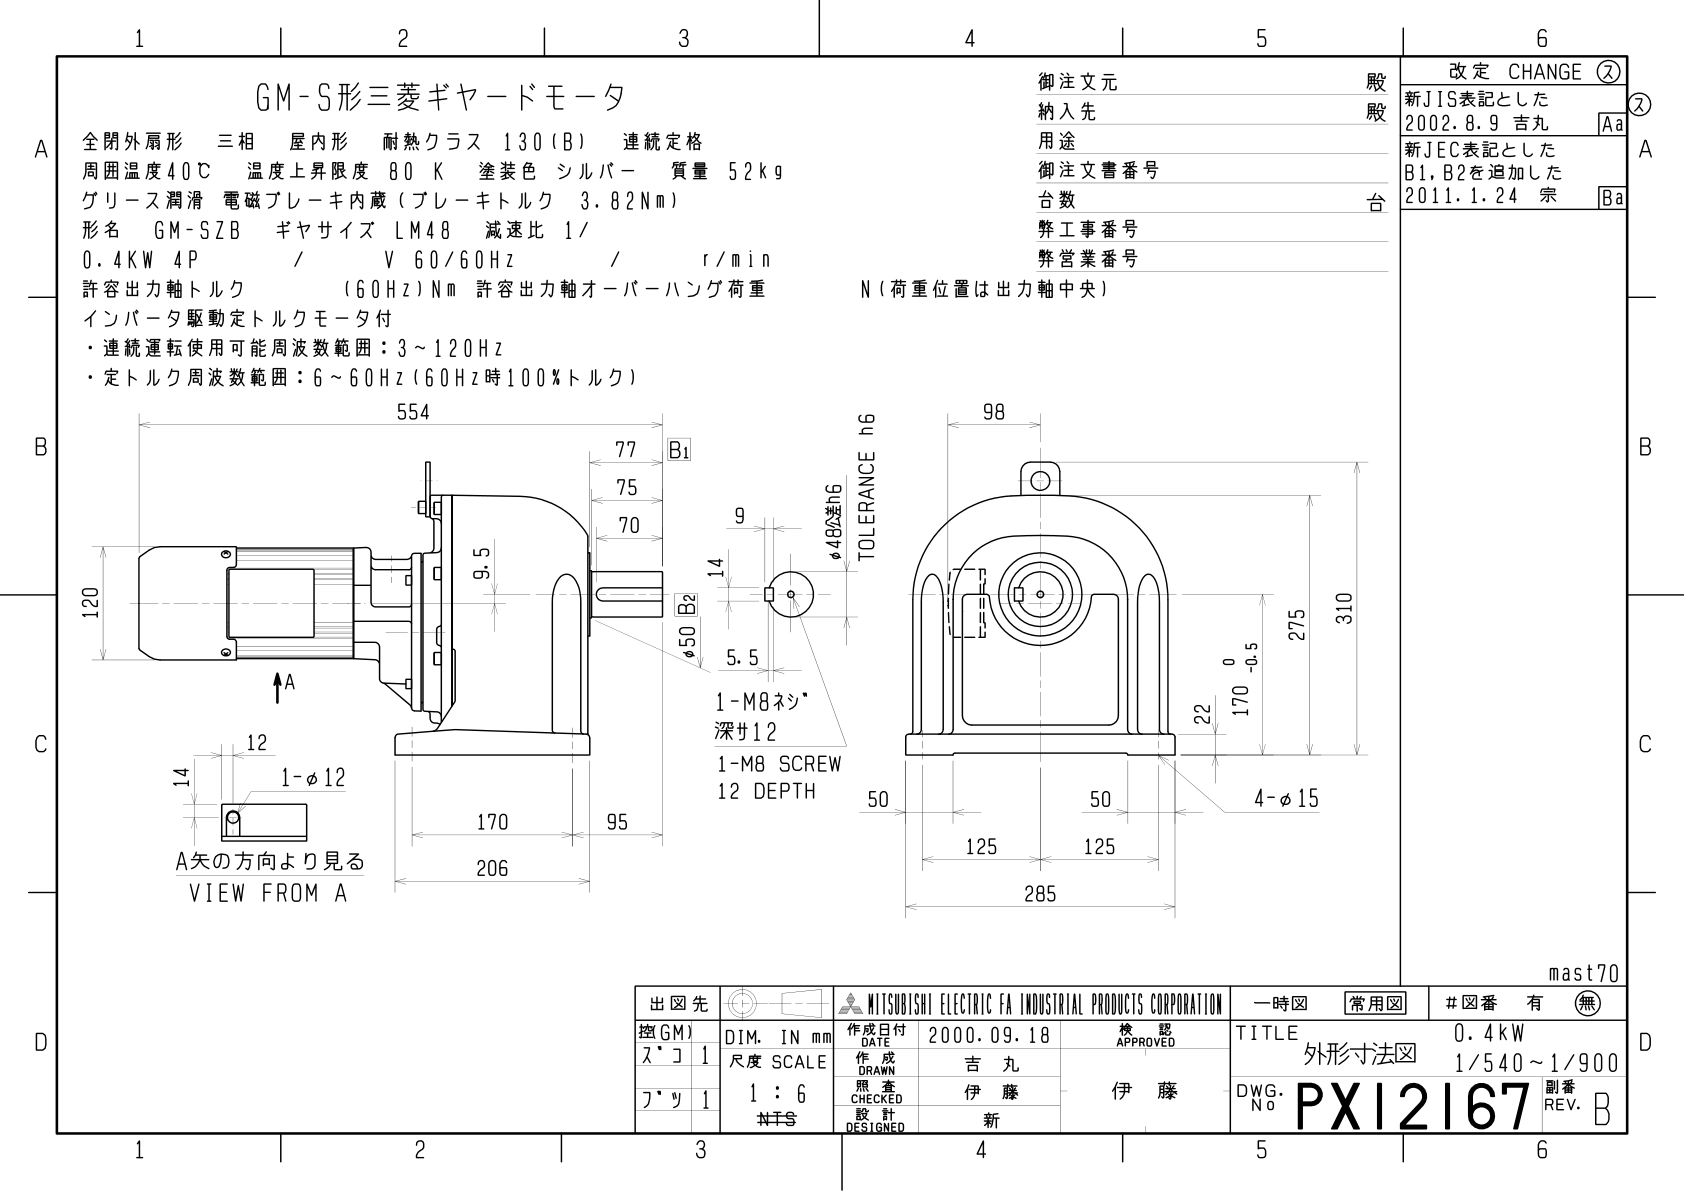GM_S_インバタ屋外＿三相_脚: (71, 392, 1385, 962)
